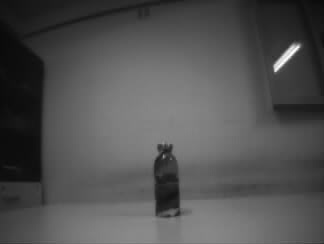Bottle: (153, 142, 181, 218)
